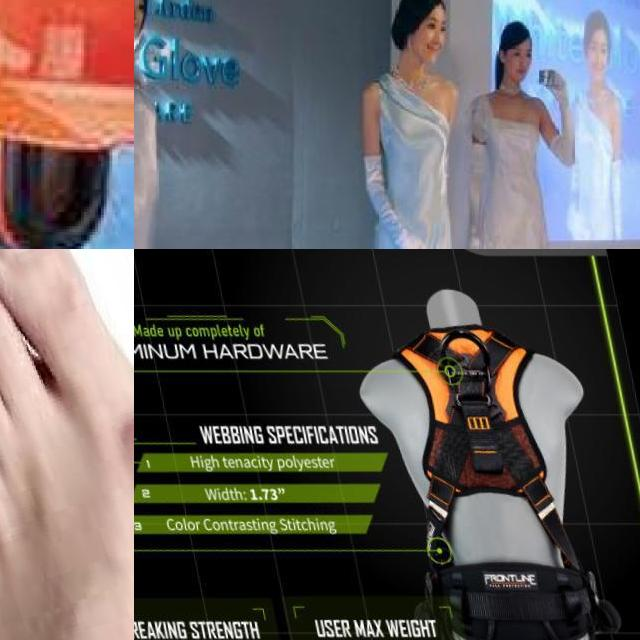Barefoots: (0, 249, 134, 640)
Ear-protection: (0, 90, 134, 249)
Harness: (400, 326, 580, 570)
face_nomask: (584, 36, 617, 83), (504, 41, 540, 84), (420, 8, 450, 57)
hand_glove: (548, 68, 570, 105), (402, 234, 433, 249), (467, 235, 481, 249)
head_nohelmet: (499, 17, 536, 51), (390, 0, 448, 21), (581, 11, 610, 40)
person: (465, 9, 584, 249), (358, 0, 467, 249), (569, 2, 629, 249), (134, 0, 185, 249)
